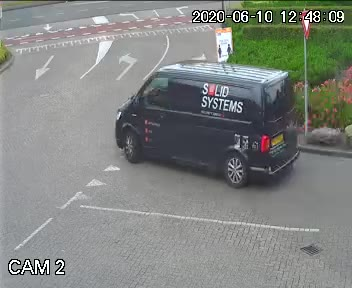car: (104, 53, 309, 189)
